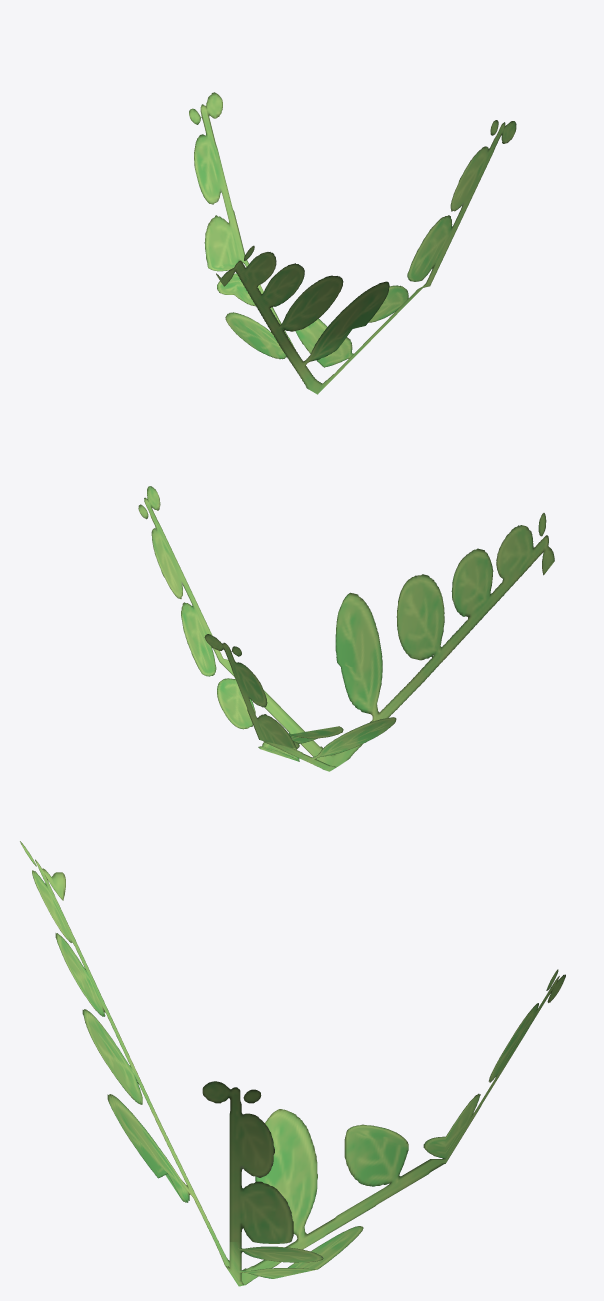
Rendered from LeafSetE_9.fbx.
The picture shows the model from 3 angles, top to bottom: view 1: azimuth 30°, elevation 25°; view 2: azimuth 150°, elevation 25°; view 3: azimuth 270°, elevation 25°; orthographic projection. The views are drawn at different scales.
Visible parts, largest first — view 1: LeafSetE_9; view 2: LeafSetE_9; view 3: LeafSetE_9.
Part boxes in pixels (box(x1,y1,x2,y2)): LeafSetE_9: box(189, 92, 516, 394); LeafSetE_9: box(138, 486, 554, 771); LeafSetE_9: box(20, 841, 565, 1286).
Bounding box in the file's own units: 1.16 × 0.7191 × 1.05.
